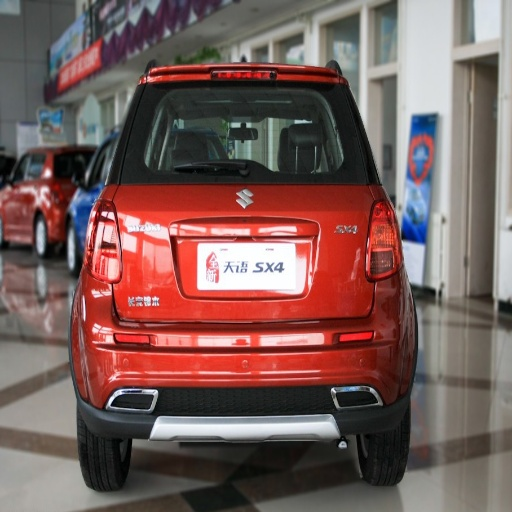back_bumper: (80, 275, 417, 443)
tailgate: (179, 228, 351, 320)
trunk: (91, 186, 373, 346)
